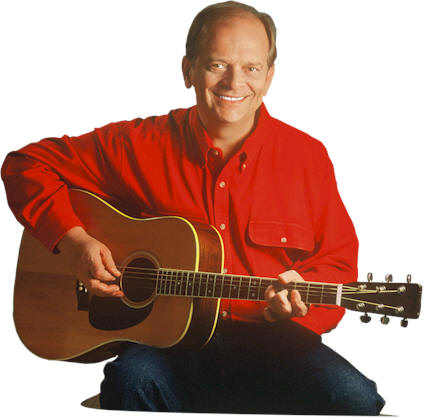guitar: (8, 185, 425, 369)
